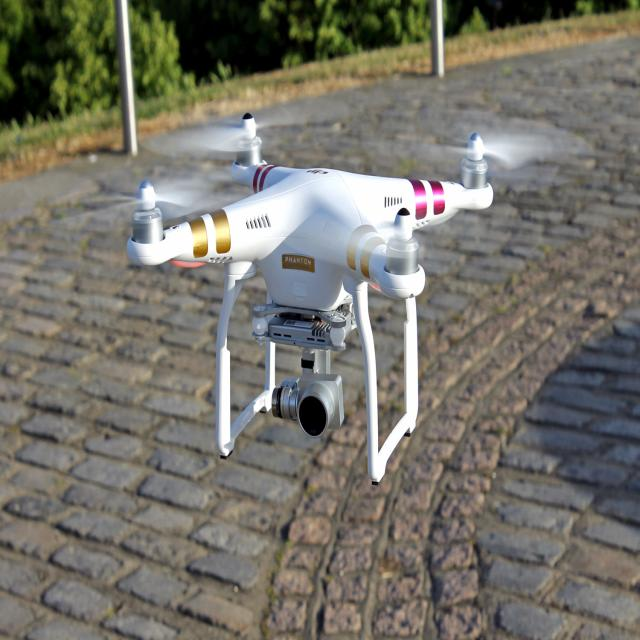Drone_FW: (126, 111, 494, 486)
